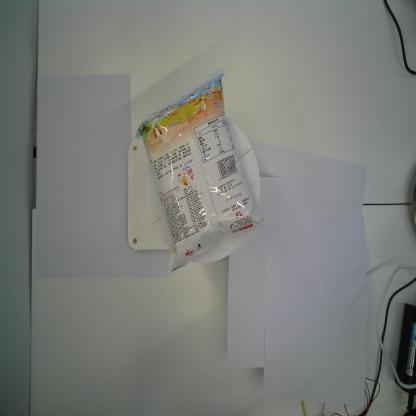Puffed Food: (135, 65, 268, 273)
